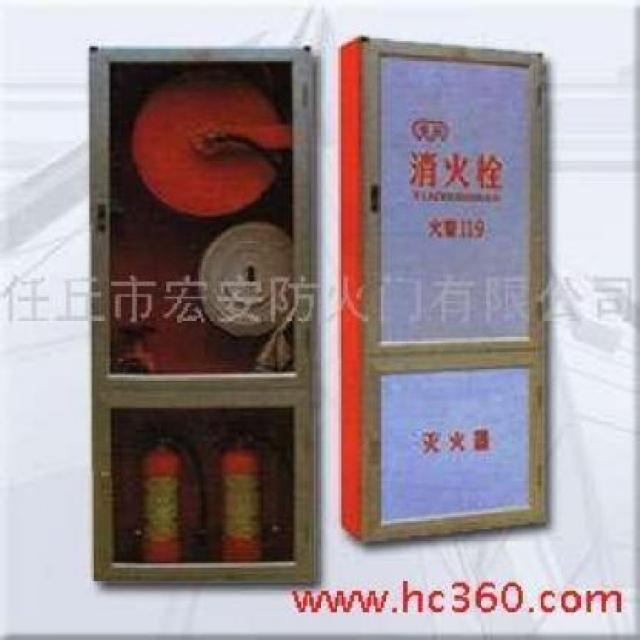firehydrant: (82, 38, 326, 594), (333, 31, 554, 554)
